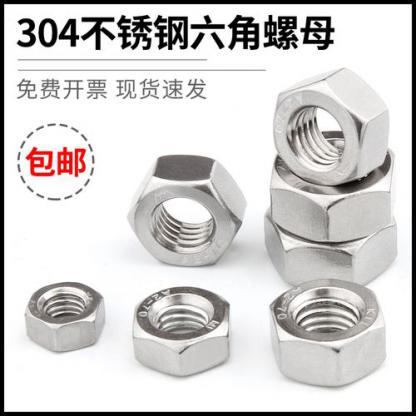FOD: (266, 127, 400, 242), (126, 152, 247, 270), (264, 274, 390, 387), (272, 66, 392, 184), (263, 200, 401, 285), (125, 284, 234, 379), (21, 279, 106, 353)
